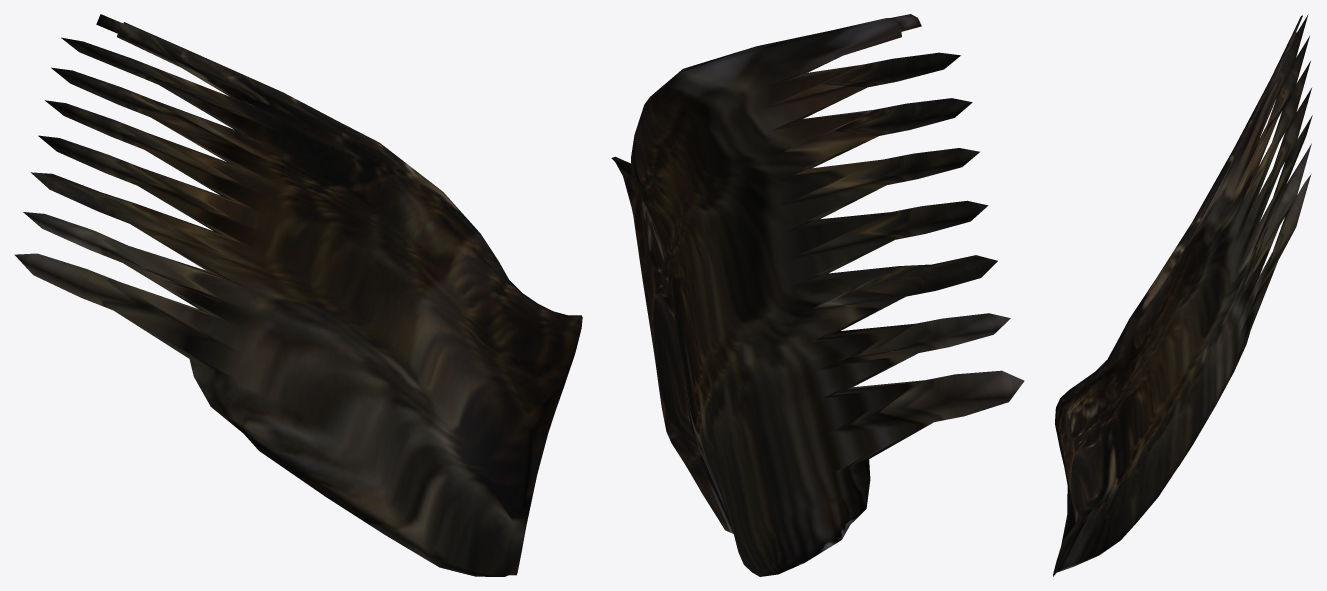
Rendered from wingleft.obj.
The picture shows the model from 3 angles, left to right: view 1: azimuth 30°, elevation 25°; view 2: azimuth 150°, elevation 25°; view 3: azimuth 270°, elevation 25°; orthographic projection. The views are drawn at different scales.
Visible parts, largest first — view 1: Flugel.002_Plane.002; view 2: Flugel.002_Plane.002; view 3: Flugel.002_Plane.002.
Boxes of the visible parts, x1,y1,x2,y2 form: Flugel.002_Plane.002: (14,14,582,576); Flugel.002_Plane.002: (611,14,1024,576); Flugel.002_Plane.002: (1053,14,1312,576).
Bounding box in the file's own units: 4.23 × 5.01 × 2.62.
Materials: 1 (1 with a texture image).
